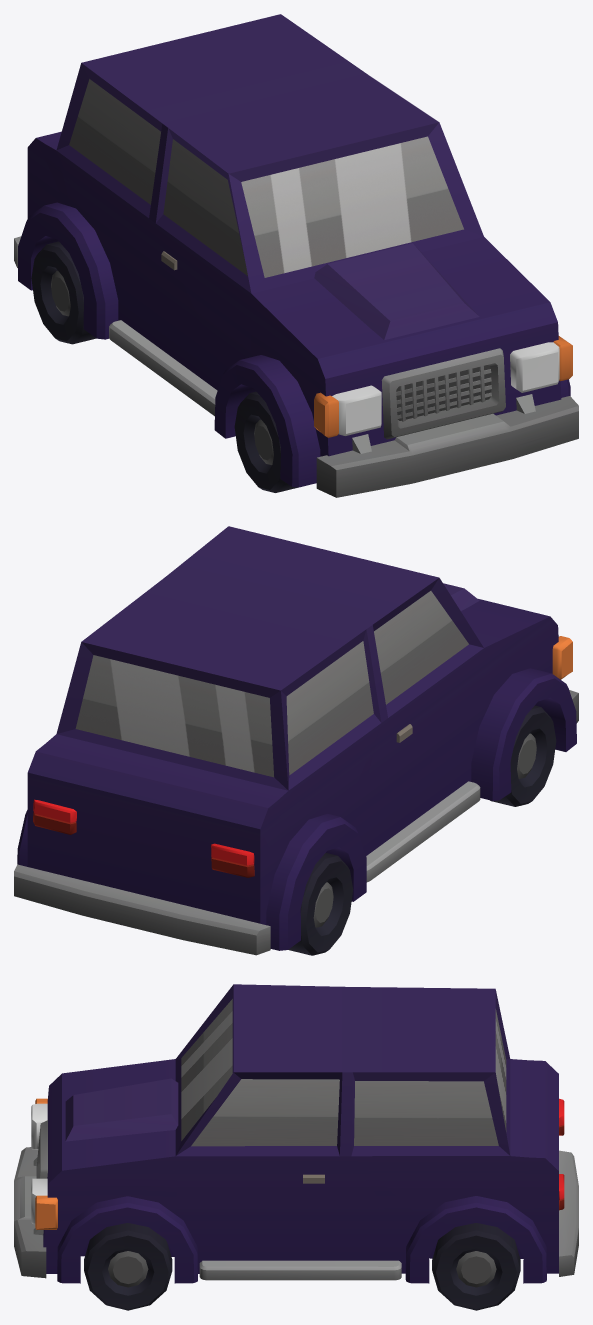
The model's file is Car_3_9.glb.
3 views of the same model, one above another, from view 1: azimuth 30°, elevation 25°; view 2: azimuth 150°, elevation 25°; view 3: azimuth 270°, elevation 25° (orthographic). The views are drawn at different scales.
Parts seen in each view (by area): view 1: Car_3_9, Wheel_Br, Wheel_Fr; view 2: Car_3_9, Wheel_Br, Wheel_Fr; view 3: Car_3_9, Wheel_Bl, Wheel_Fl.
Part boxes in pixels (x1,y1,x2,y2): Car_3_9: (14,14,578,497); Wheel_Br: (31,241,96,344); Wheel_Fr: (234,391,297,492); Car_3_9: (14,526,578,955); Wheel_Br: (288,853,353,955); Wheel_Fr: (490,705,556,806); Car_3_9: (14,984,578,1283); Wheel_Bl: (432,1223,520,1310); Wheel_Fl: (84,1223,172,1310).
Bounding box in the file's own units: 1.13 × 1.02 × 2.3.
6 materials, 6 textured.
